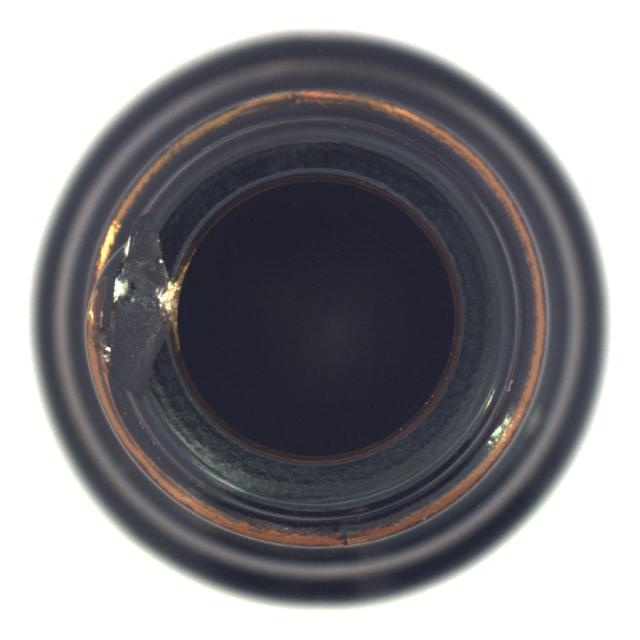bad-broken_small: (29, 28, 611, 608)
